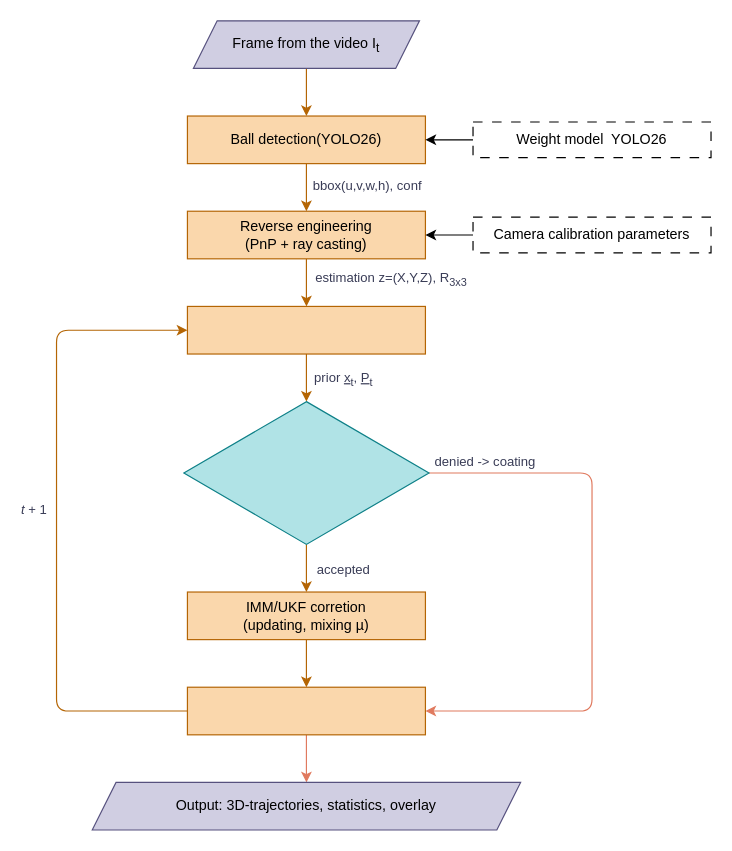
The diagram is 732 pixels wide and 851 high, and some of its shapes have lost their labels. Here are the shapes that lost their labels. From the top down, the centre of each, then its label:
At pixel 305 329: "IMM/UKF state prediction (sigma-points, F, Q)".
At pixel 306 472: "Association gates: far-Z, Gate-A, coast-fence".
At pixel 305 710: "9D track state x t + lifetime cycle".
